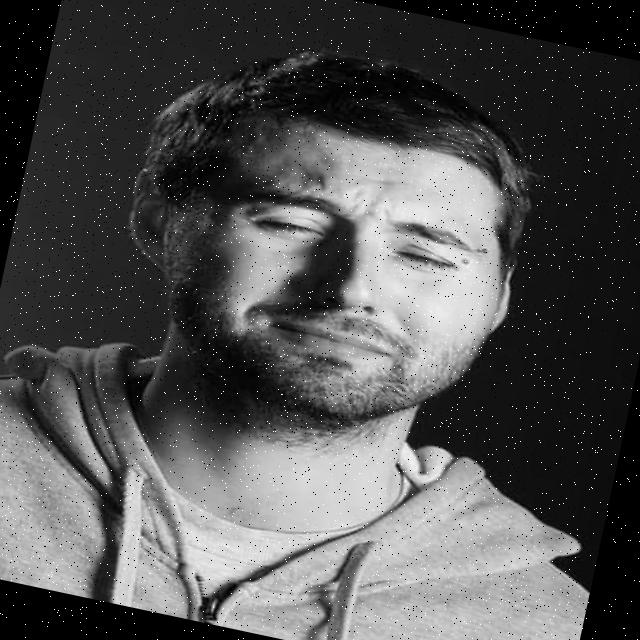Sadness: (185, 115, 502, 441)
